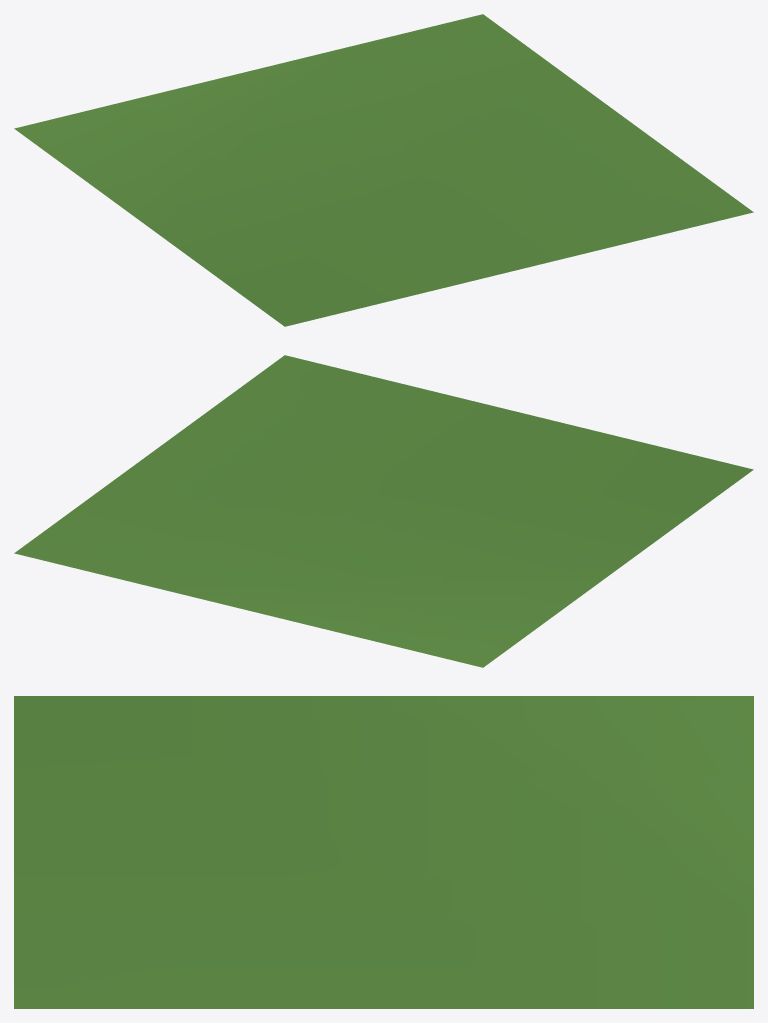
The model's file is terrain_8_12_4.glb.
The picture shows the model from 3 angles, top to bottom: view 1: azimuth 30°, elevation 25°; view 2: azimuth 150°, elevation 25°; view 3: azimuth 270°, elevation 25°; orthographic projection. The views are drawn at different scales.
Parts seen in each view (by area): view 1: m; view 2: m; view 3: m.
Boxes of the visible parts, x1=… form: m: x1=14, y1=14, x2=753, y2=326; m: x1=14, y1=355, x2=753, y2=667; m: x1=14, y1=696, x2=753, y2=1008.
Size of the model in its own units: 8 by 0 by 8.
